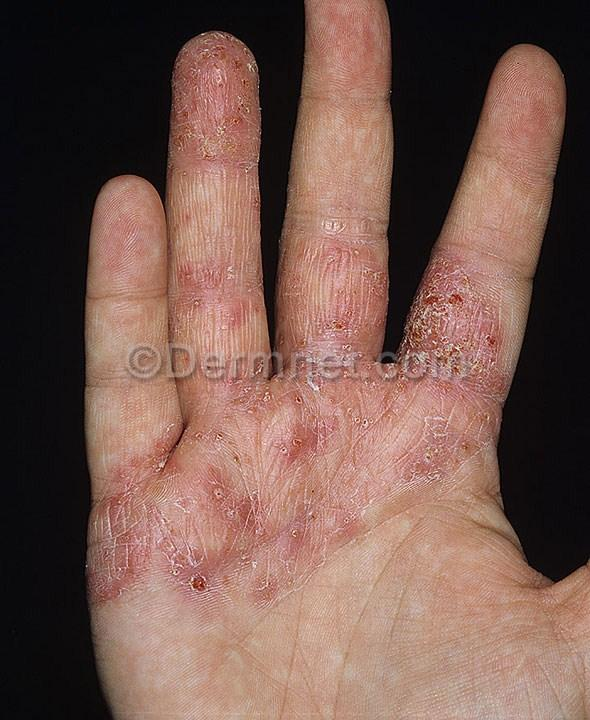Eczema: (191, 380, 502, 496), (188, 505, 393, 620), (166, 22, 283, 180), (288, 203, 398, 351), (98, 437, 180, 605), (158, 223, 267, 348), (416, 232, 528, 345)
